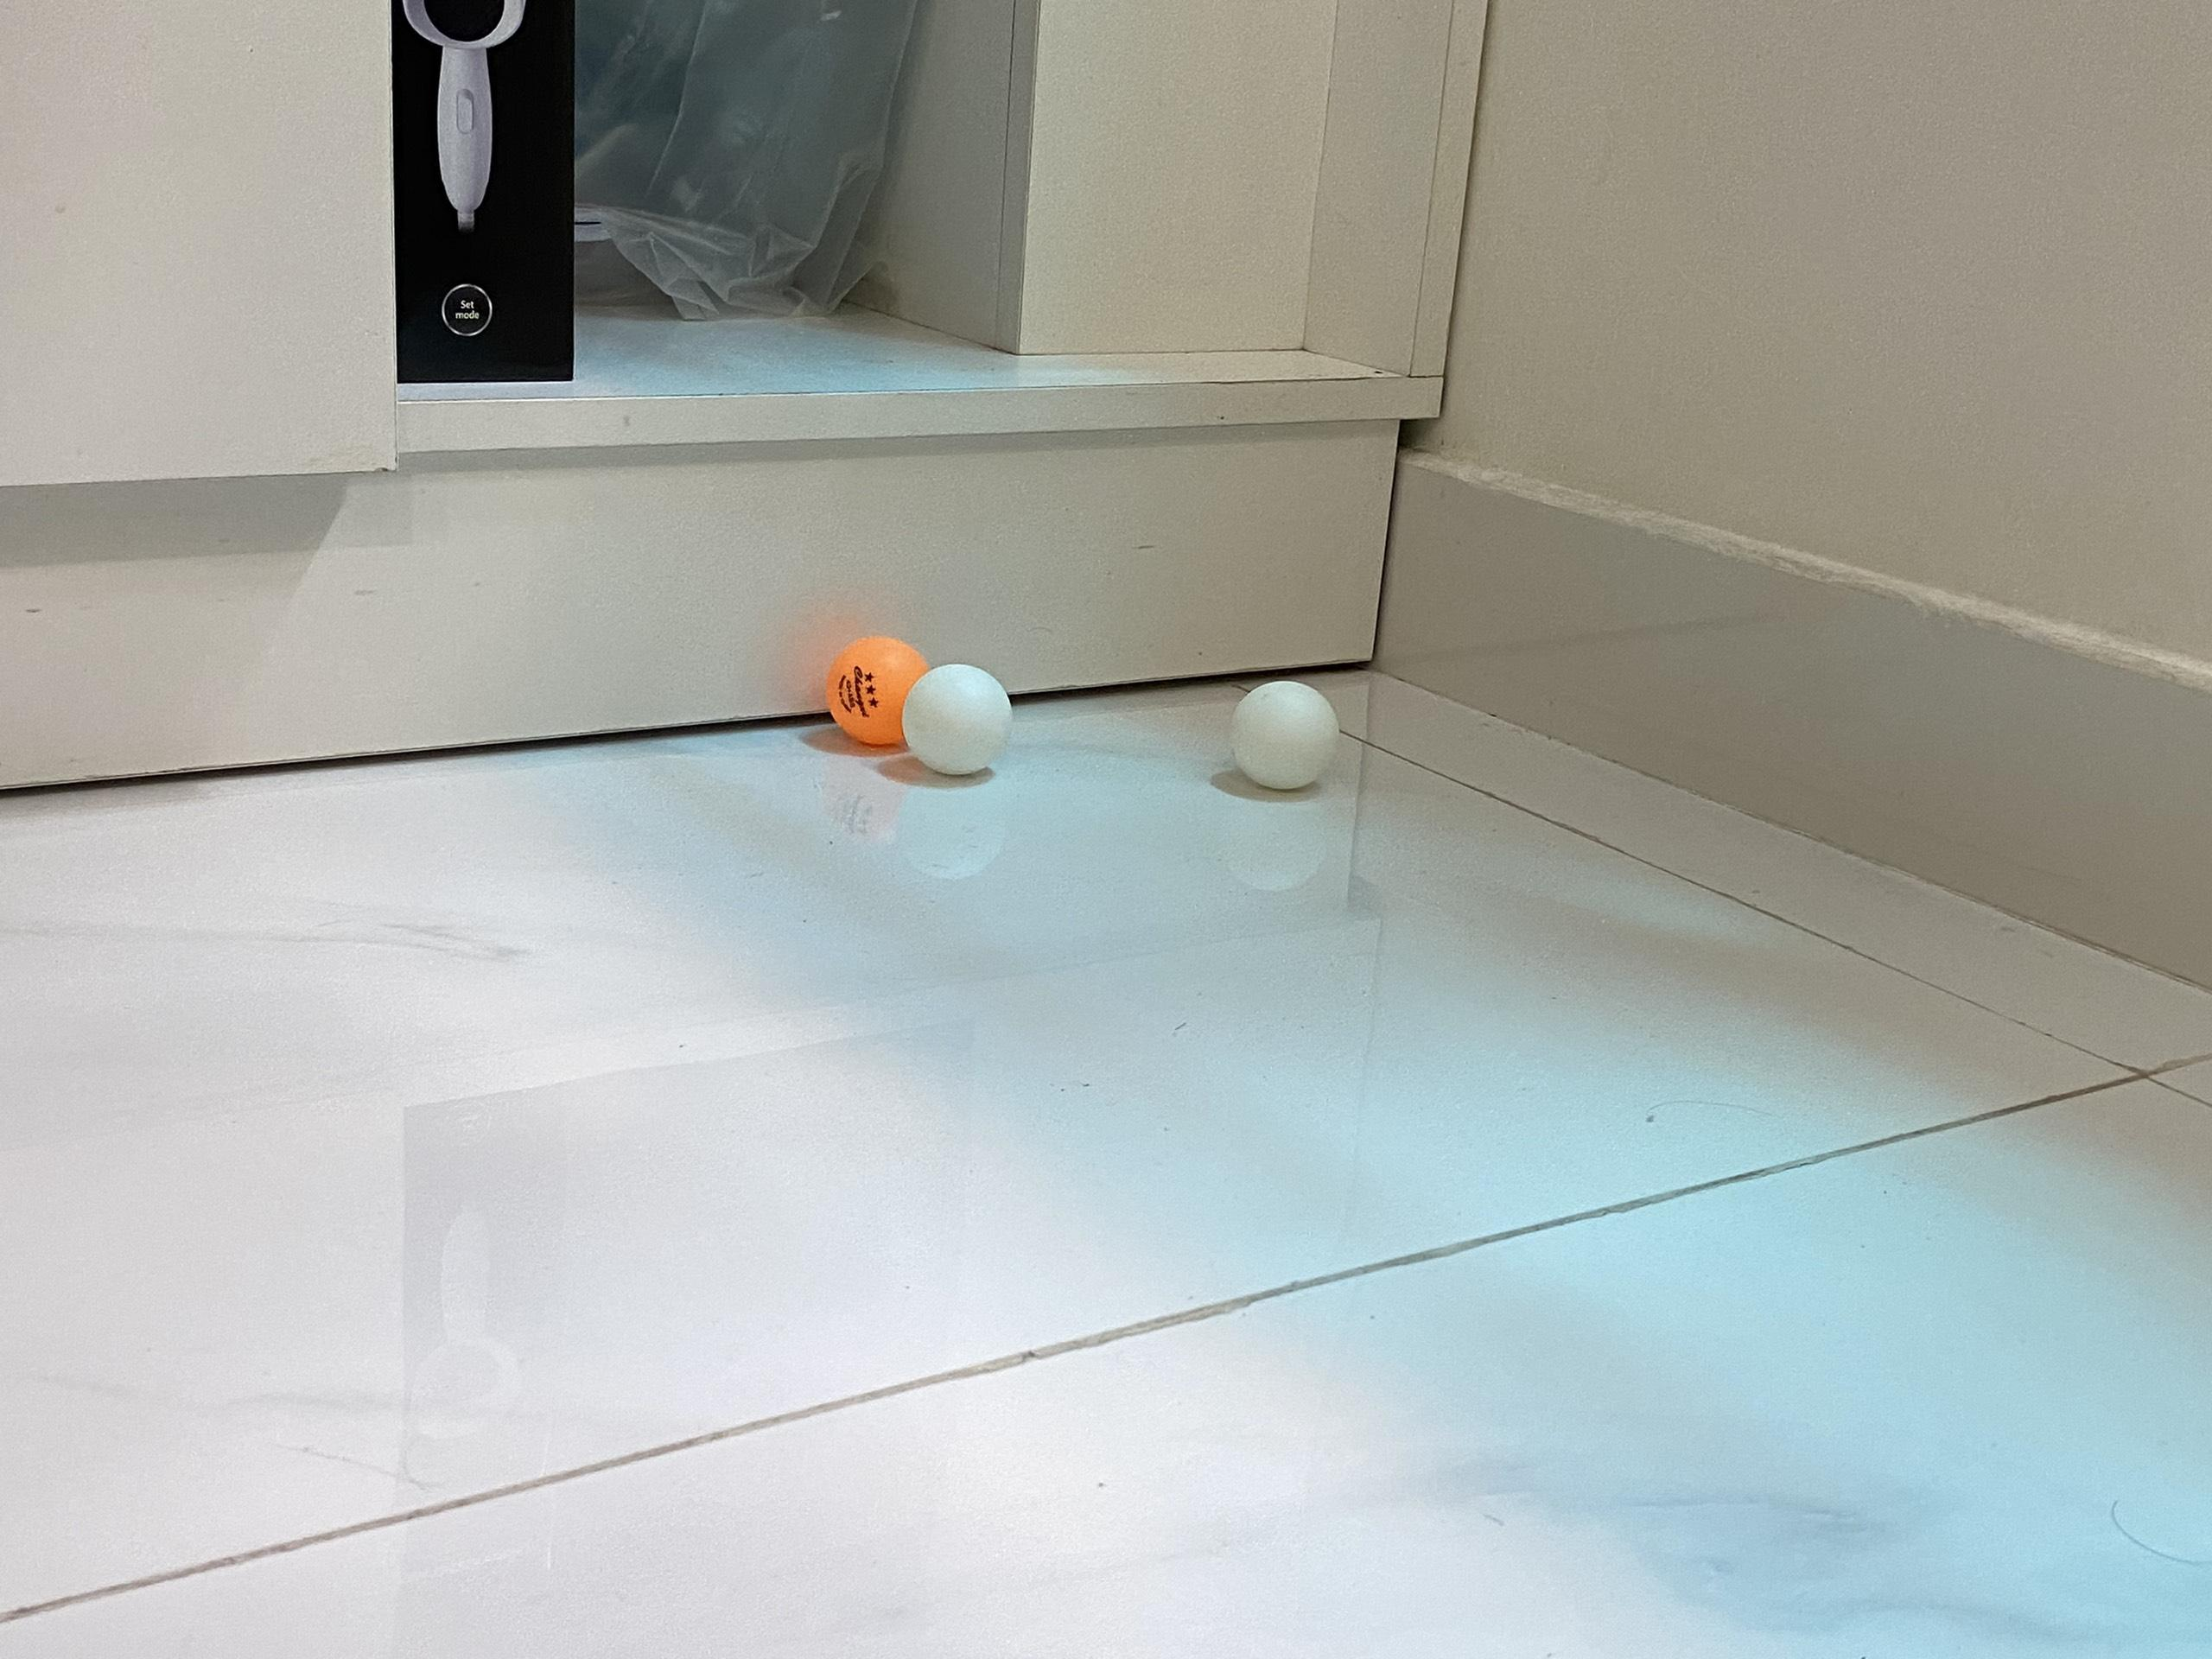oball: (827, 638, 932, 748)
